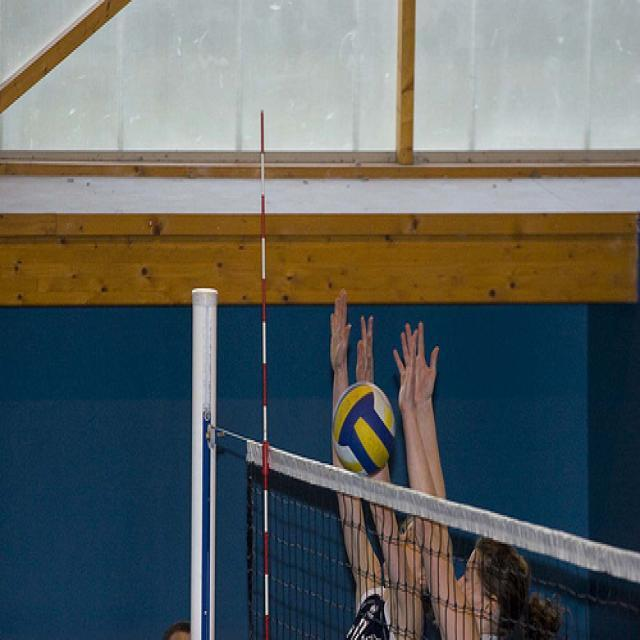volleyball: (332, 381, 396, 477)
